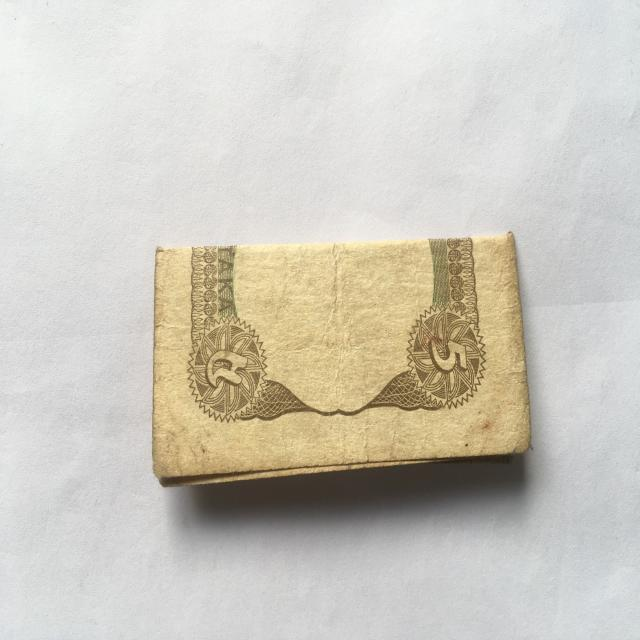Taka: (144, 235, 536, 471)
